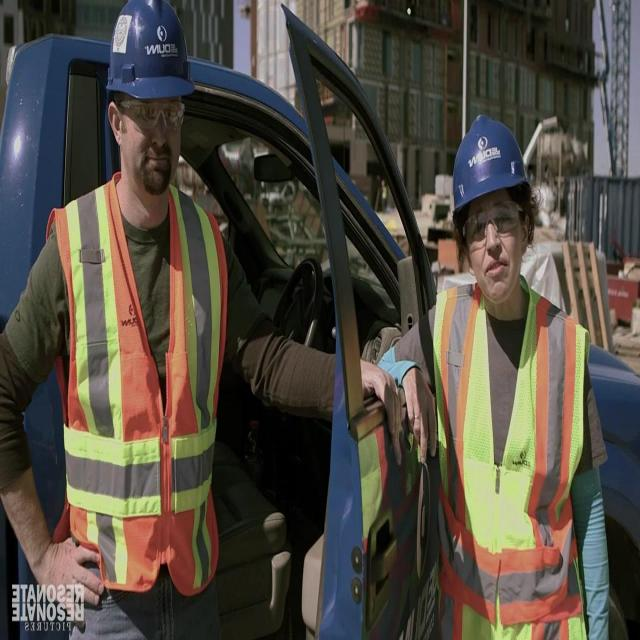Reflective-Jacket: (38, 179, 235, 601), (410, 272, 604, 640)
Safety-Helmet: (439, 102, 541, 230), (101, 0, 200, 109)
